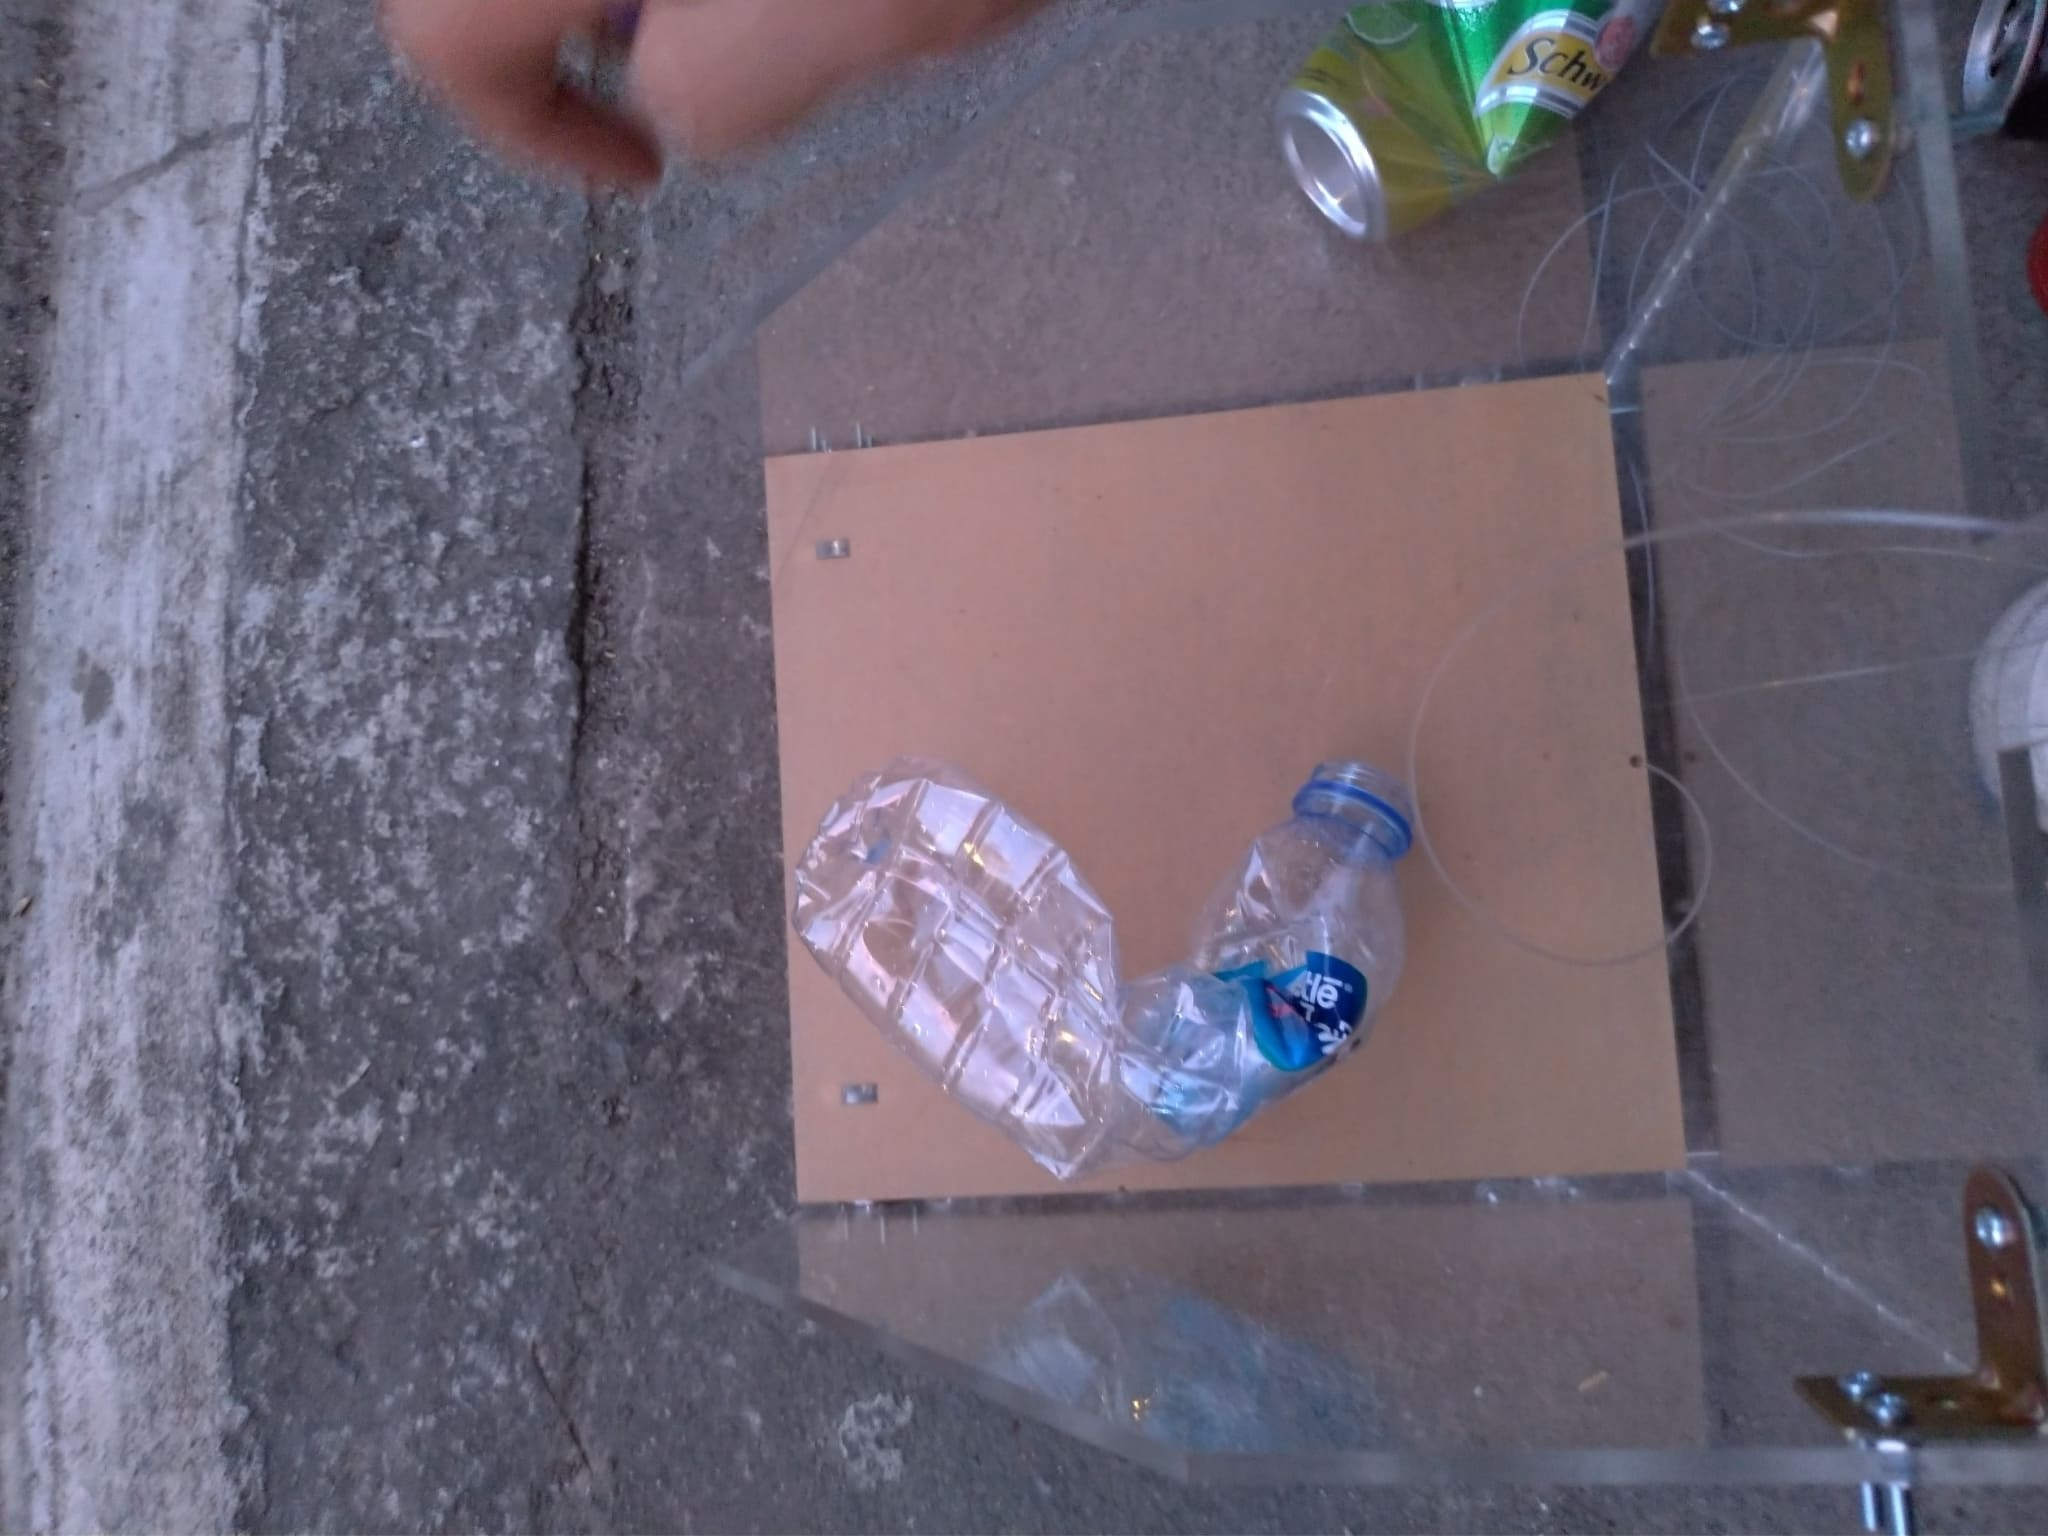AlCan: (1272, 2, 1659, 248)
PlasticBottle: (797, 757, 1409, 1179)
